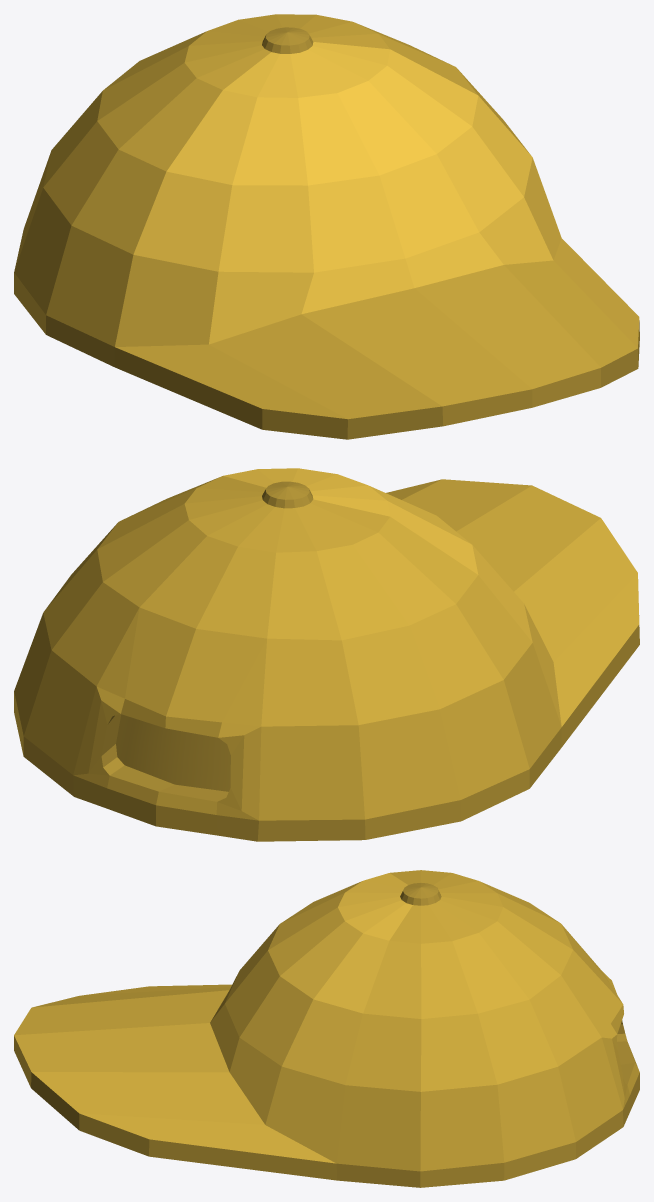
The model's file is SR_Cap_Yellow.fbx.
3 views of the same model, one above another, from view 1: azimuth 30°, elevation 25°; view 2: azimuth 150°, elevation 25°; view 3: azimuth 270°, elevation 25° (orthographic). The views are drawn at different scales.
Visible parts, largest first — view 1: SR_Cap_Yellow; view 2: SR_Cap_Yellow; view 3: SR_Cap_Yellow.
Boxes of the visible parts, box(x1,y1,x2,y2) form: SR_Cap_Yellow: box(14, 14, 639, 439); SR_Cap_Yellow: box(14, 468, 639, 841); SR_Cap_Yellow: box(14, 870, 639, 1187).
Size of the model in its own units: 131 by 63.17 by 177.
